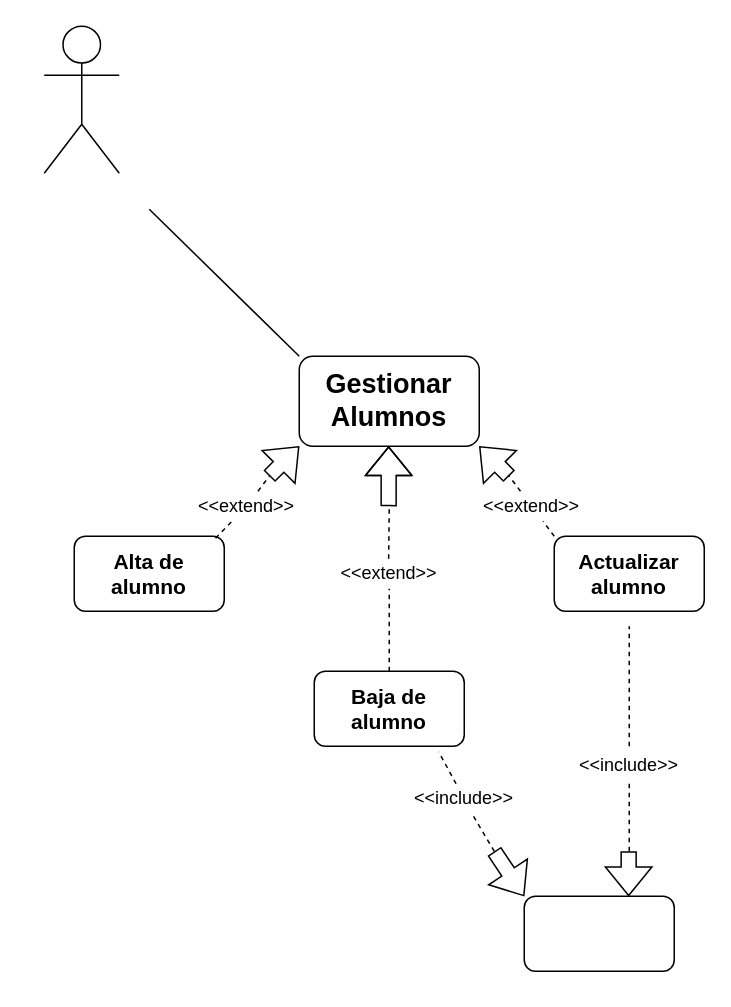
Image size: 731x1007. Some labels were removed from this diagram. Here are the shapes that lost their labels. From the top down, the box of each, then its label:
(43, 25, 119, 173): Administrador
(523, 895, 674, 971): Buscar alumno
